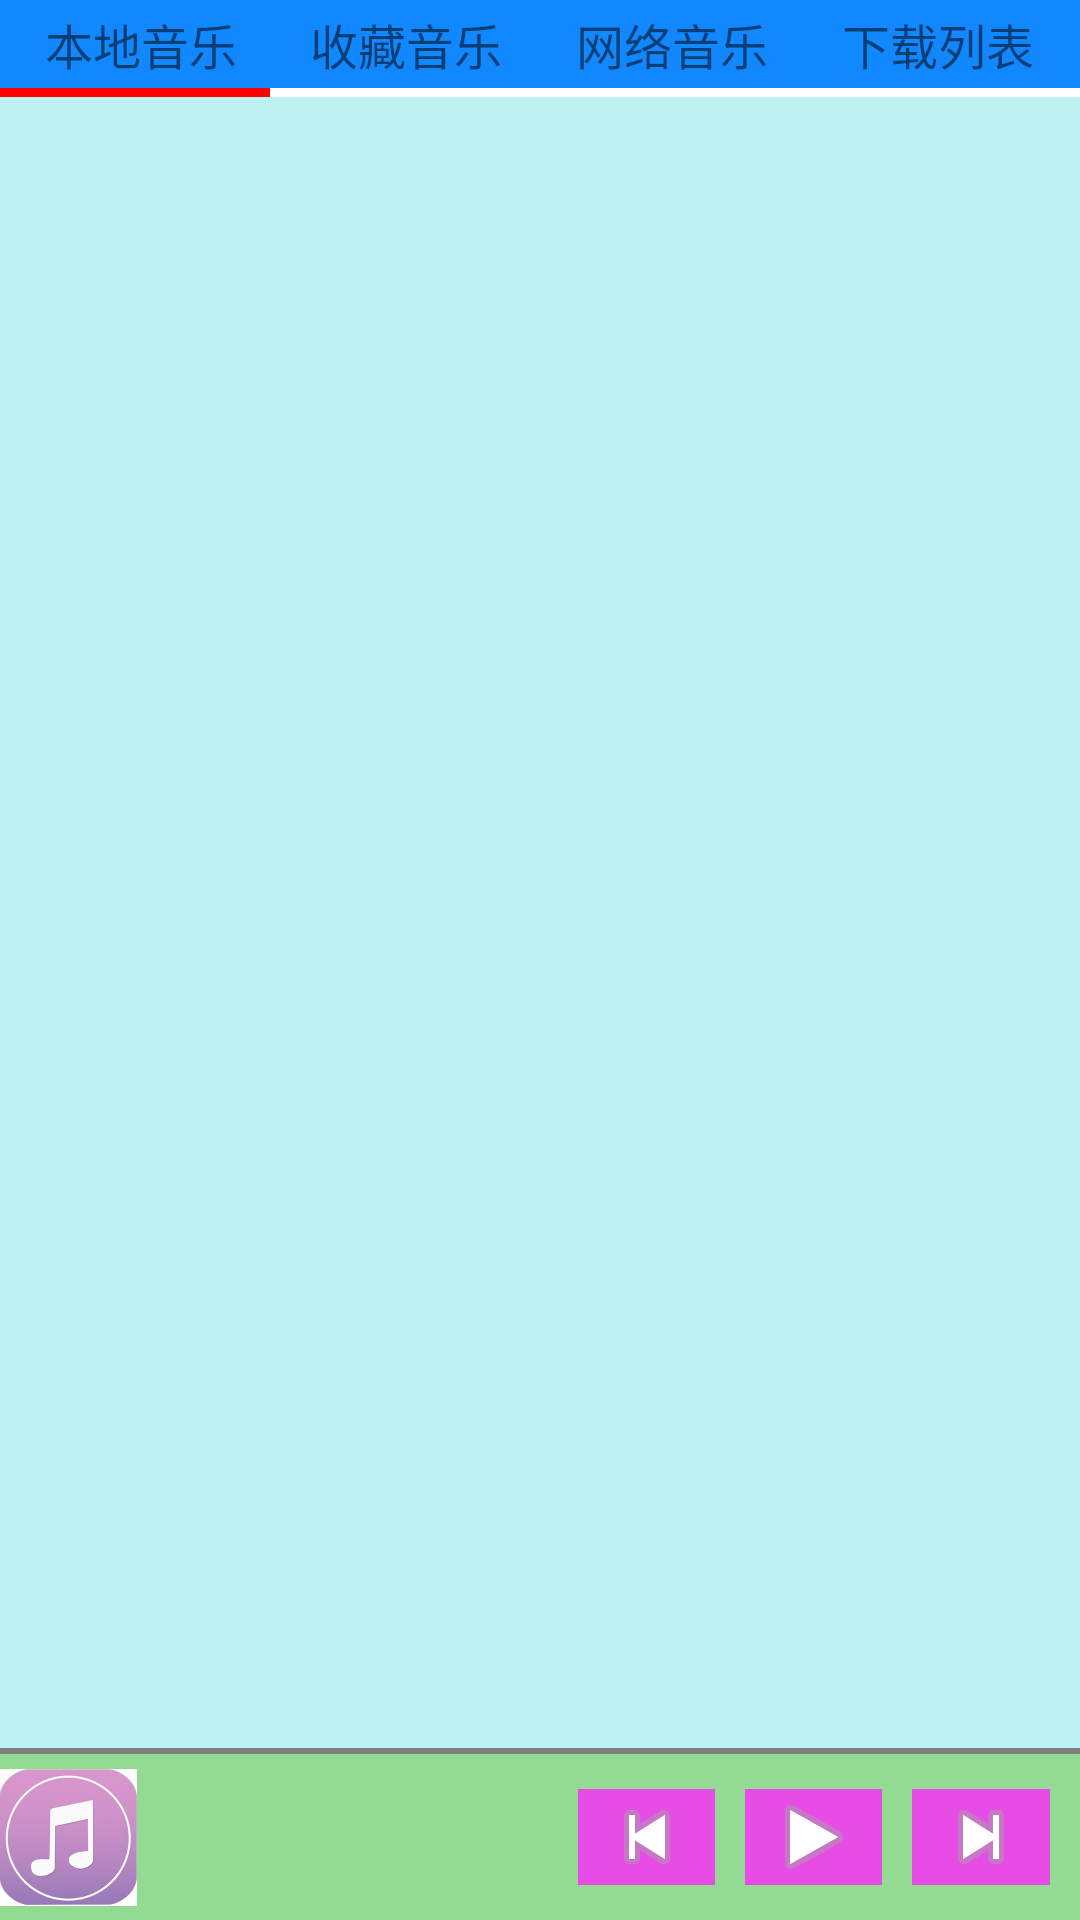

Named icons in this screenshot (1080w x 1920h) and their bounding boxes, bbox(x1, y1, x2, y2):
next: bbox(912, 1789, 1050, 1885)
play: bbox(745, 1789, 882, 1885)
previous: bbox(578, 1789, 715, 1885)
